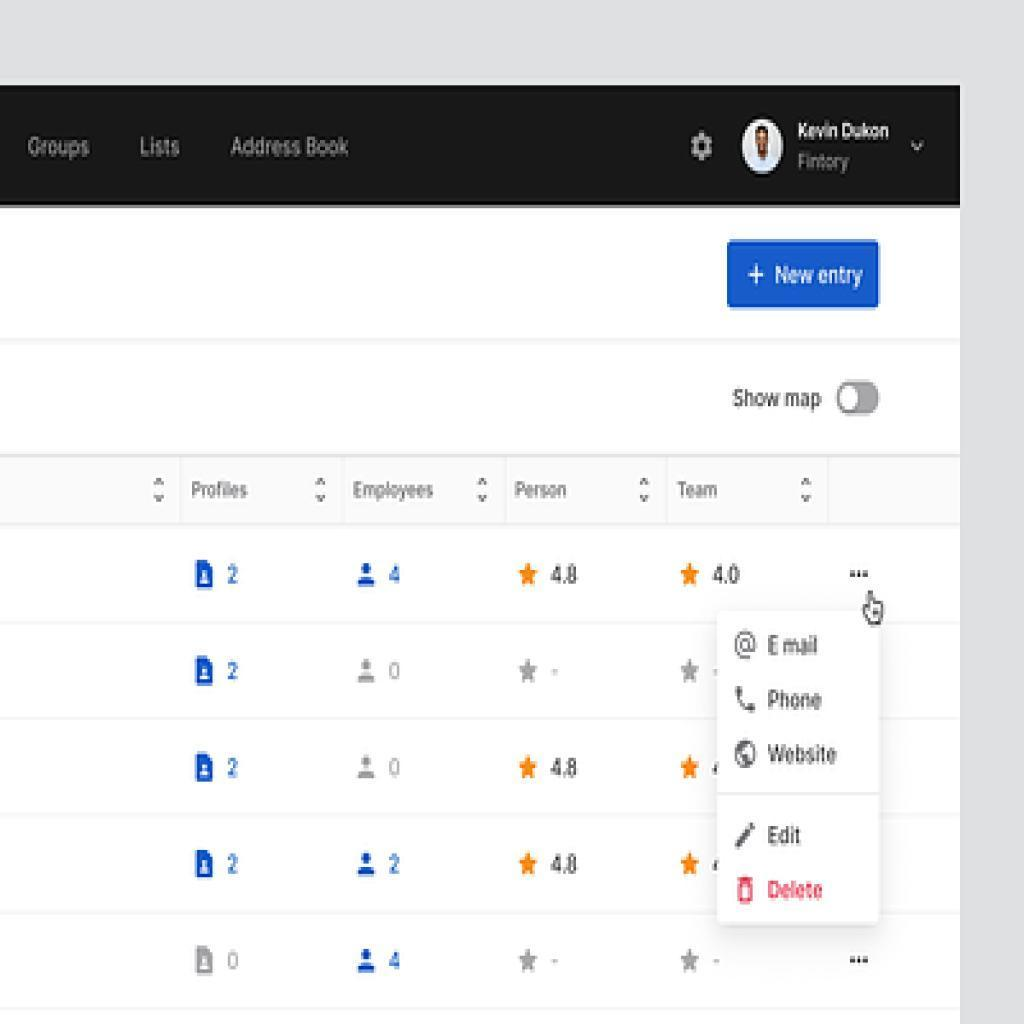button: (730, 240, 882, 309)
dropdown: (346, 456, 511, 525), (181, 457, 346, 524), (668, 456, 828, 522), (512, 457, 667, 524)
icon: (730, 630, 760, 662), (735, 874, 758, 909), (734, 821, 756, 857), (194, 654, 217, 688), (678, 946, 704, 976), (692, 130, 714, 165), (735, 738, 758, 771), (356, 944, 379, 977), (677, 851, 703, 880), (194, 751, 216, 785), (194, 559, 217, 591), (676, 563, 702, 591), (737, 684, 759, 717), (679, 754, 704, 783), (516, 753, 541, 781), (516, 849, 540, 878), (194, 847, 215, 880), (357, 560, 379, 591), (357, 849, 379, 880), (196, 945, 216, 978), (518, 560, 541, 588), (356, 656, 377, 686), (518, 948, 541, 975), (680, 658, 702, 686), (518, 658, 541, 684), (358, 757, 377, 783)
label: (230, 135, 352, 159), (764, 628, 828, 664), (765, 872, 828, 904), (768, 740, 838, 768), (764, 688, 828, 713), (27, 136, 91, 160), (139, 134, 185, 159), (768, 822, 806, 850)
switch: (838, 383, 879, 415)
